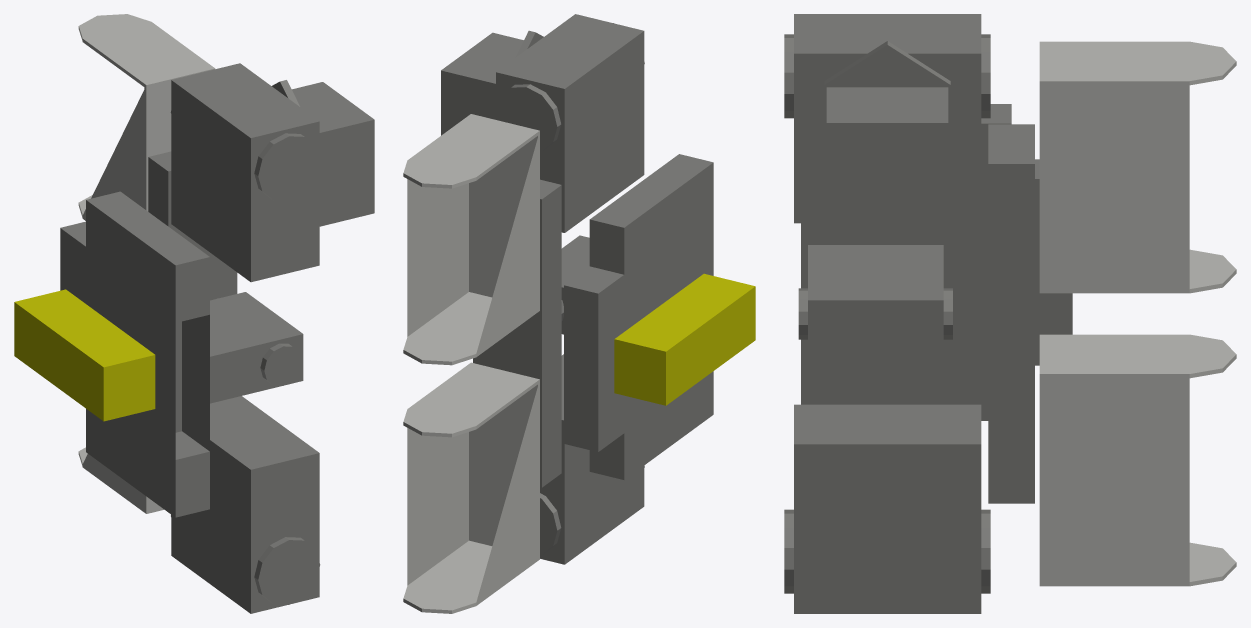
3 renders of one model, left to right at view 1: azimuth 30°, elevation 25°; view 2: azimuth 150°, elevation 25°; view 3: azimuth 270°, elevation 25°, orthographic. The views are drawn at different scales.
Bounding box in the file's own units: 0.0775 × 0.135 × 0.0965.
